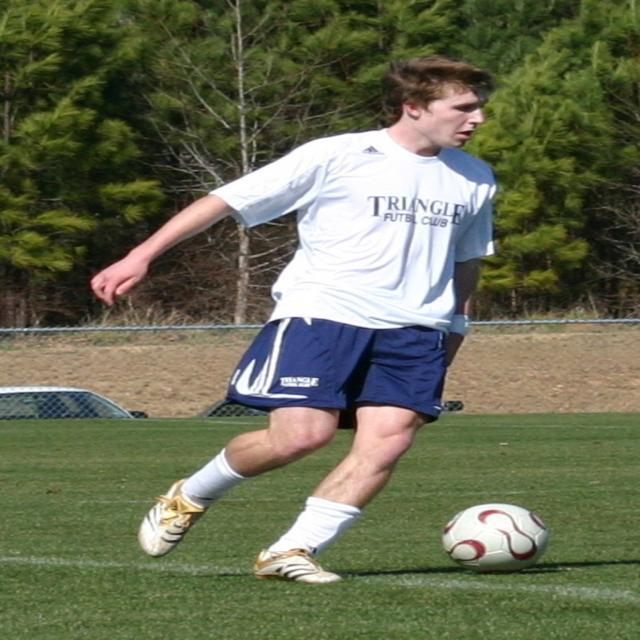ball: (442, 502, 551, 574)
